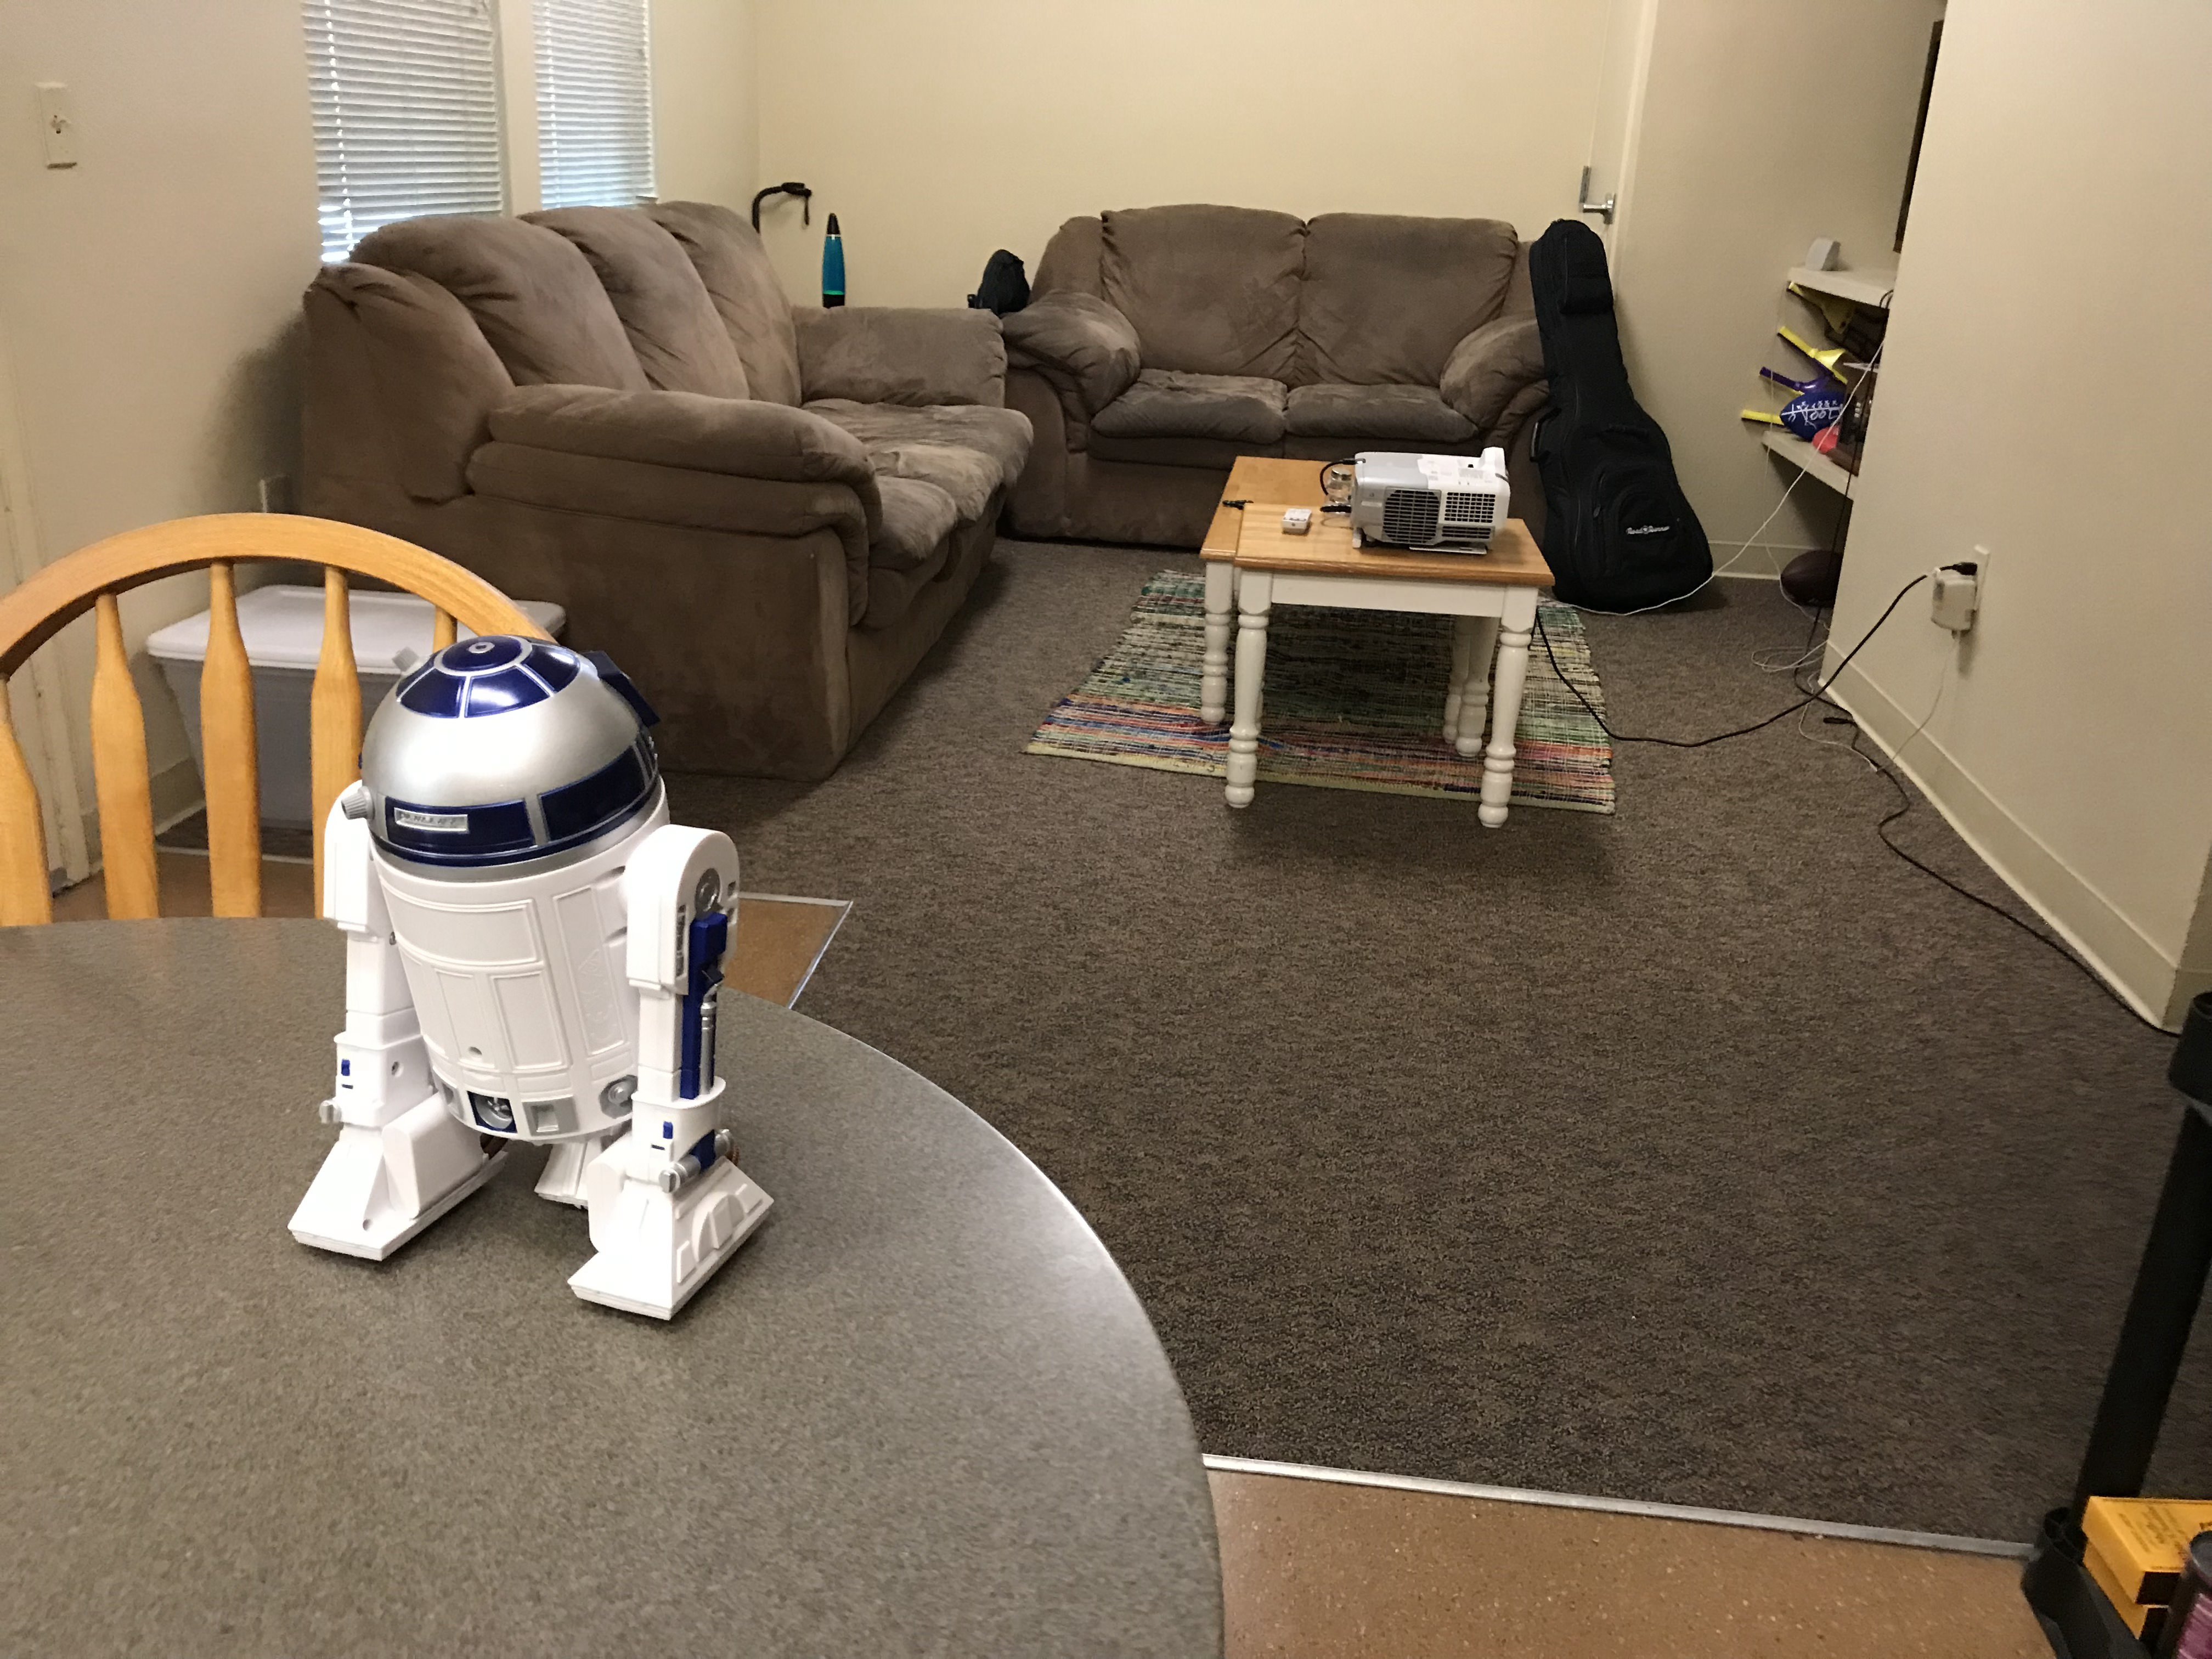r2d2: (287, 634, 775, 1323)
